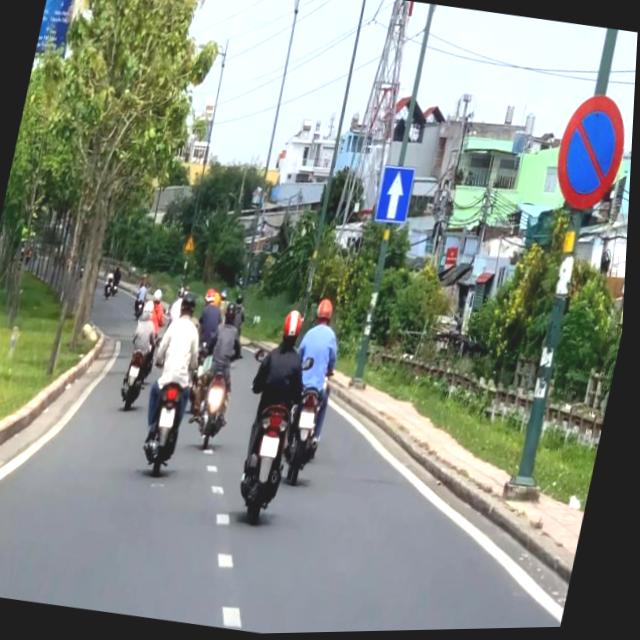Cam do xe: (545, 89, 636, 221)
Duong mot chieu: (378, 168, 419, 225)
cho ngoat nguy hiem vong ben trai: (187, 236, 198, 253)
